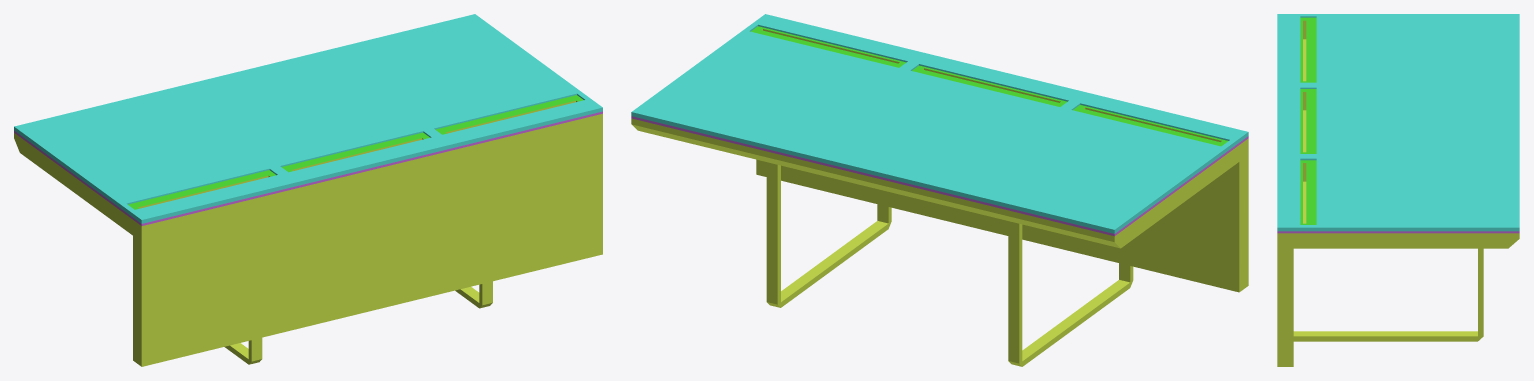
File: Table_07_Straight.fbx
The picture shows the model from 3 angles, left to right: view 1: azimuth 30°, elevation 25°; view 2: azimuth 150°, elevation 25°; view 3: azimuth 270°, elevation 25°; orthographic projection. The views are drawn at different scales.
Parts seen in each view (by area): view 1: Table_07_Straight; view 2: Table_07_Straight; view 3: Table_07_Straight.
Boxes of the visible parts, bbox=[...] form: Table_07_Straight: bbox=[14, 14, 602, 366]; Table_07_Straight: bbox=[631, 14, 1248, 366]; Table_07_Straight: bbox=[1277, 14, 1519, 366].
Bounding box in the file's own units: 229 × 82.3 × 110.
